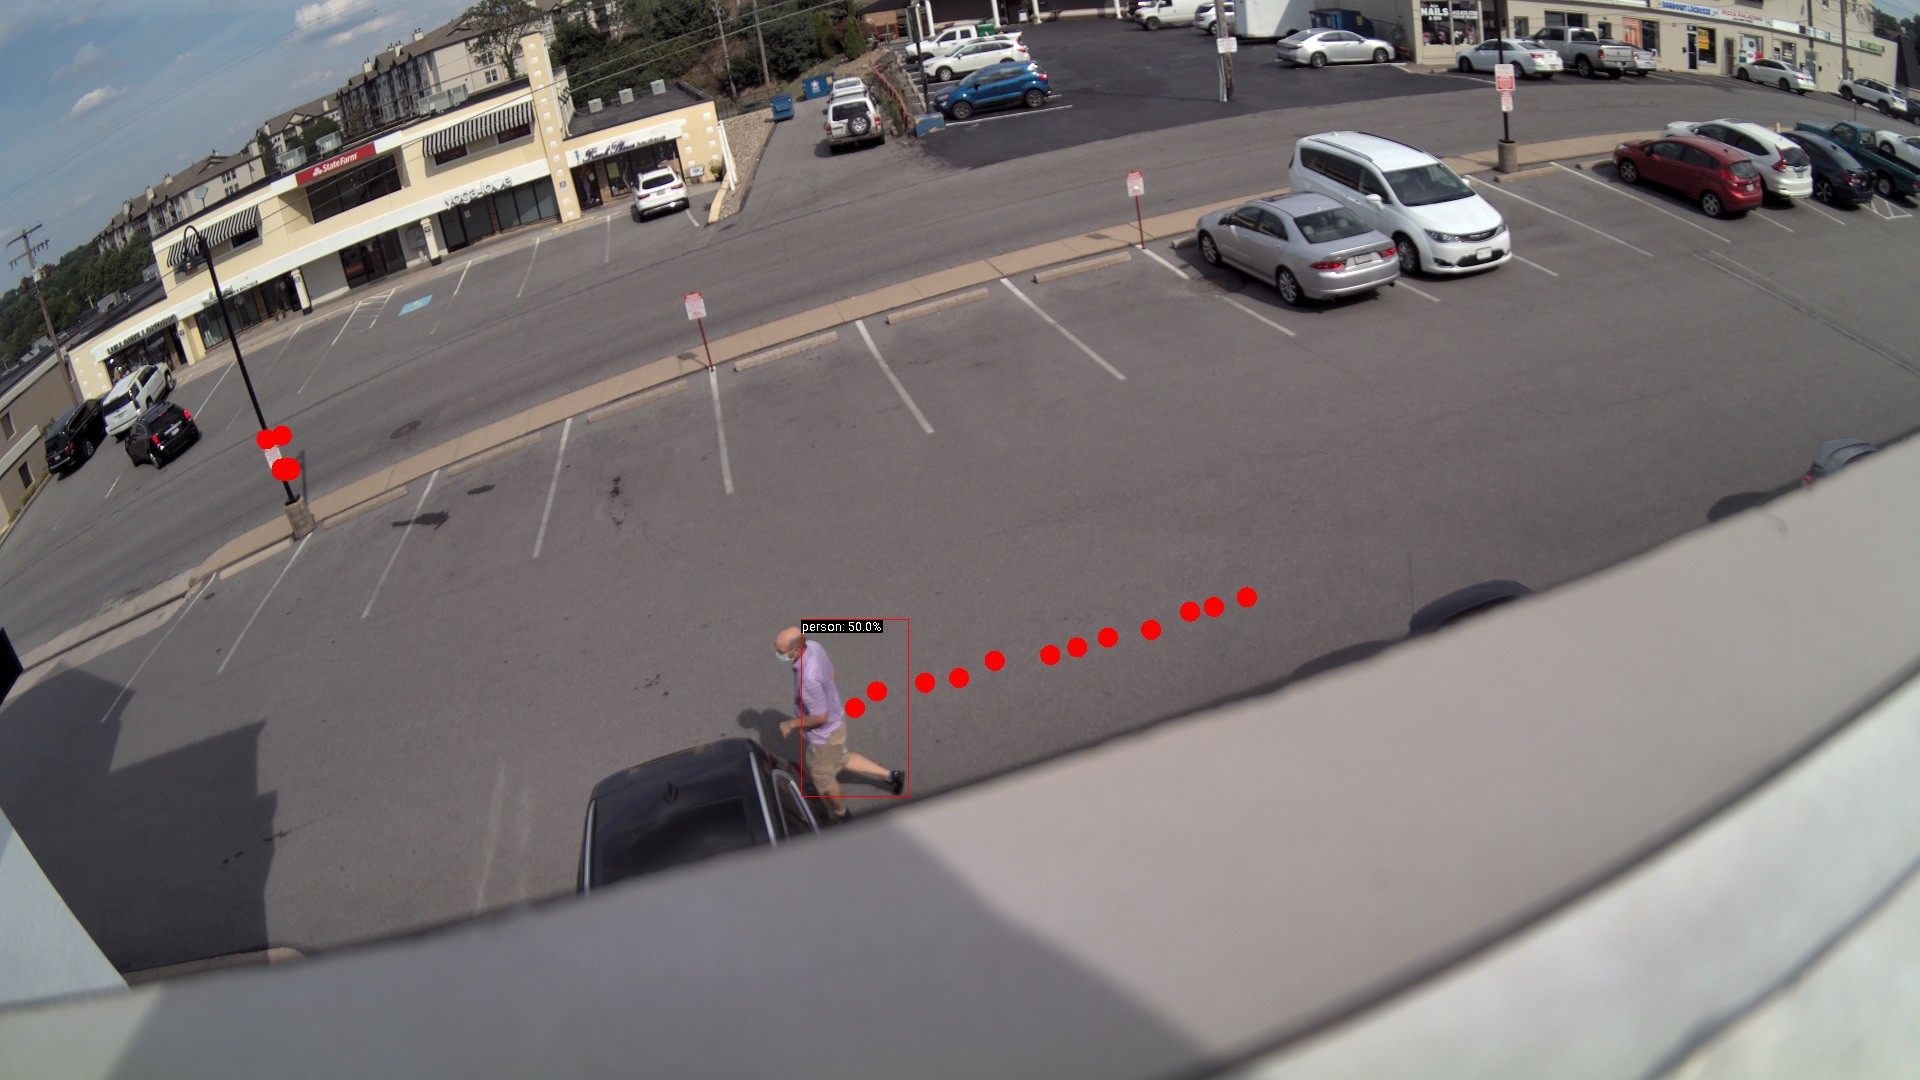person: (775, 627, 903, 814)
